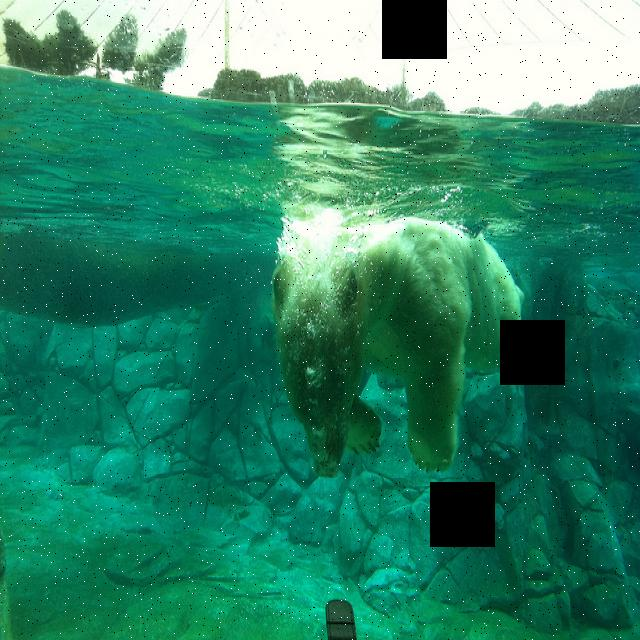Bear: (266, 205, 527, 483)
